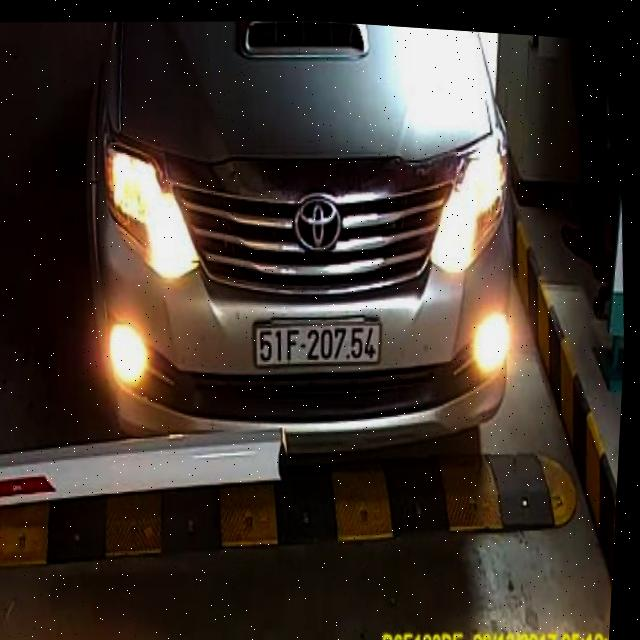car: (44, 5, 543, 490)
plate: (238, 302, 390, 384)
